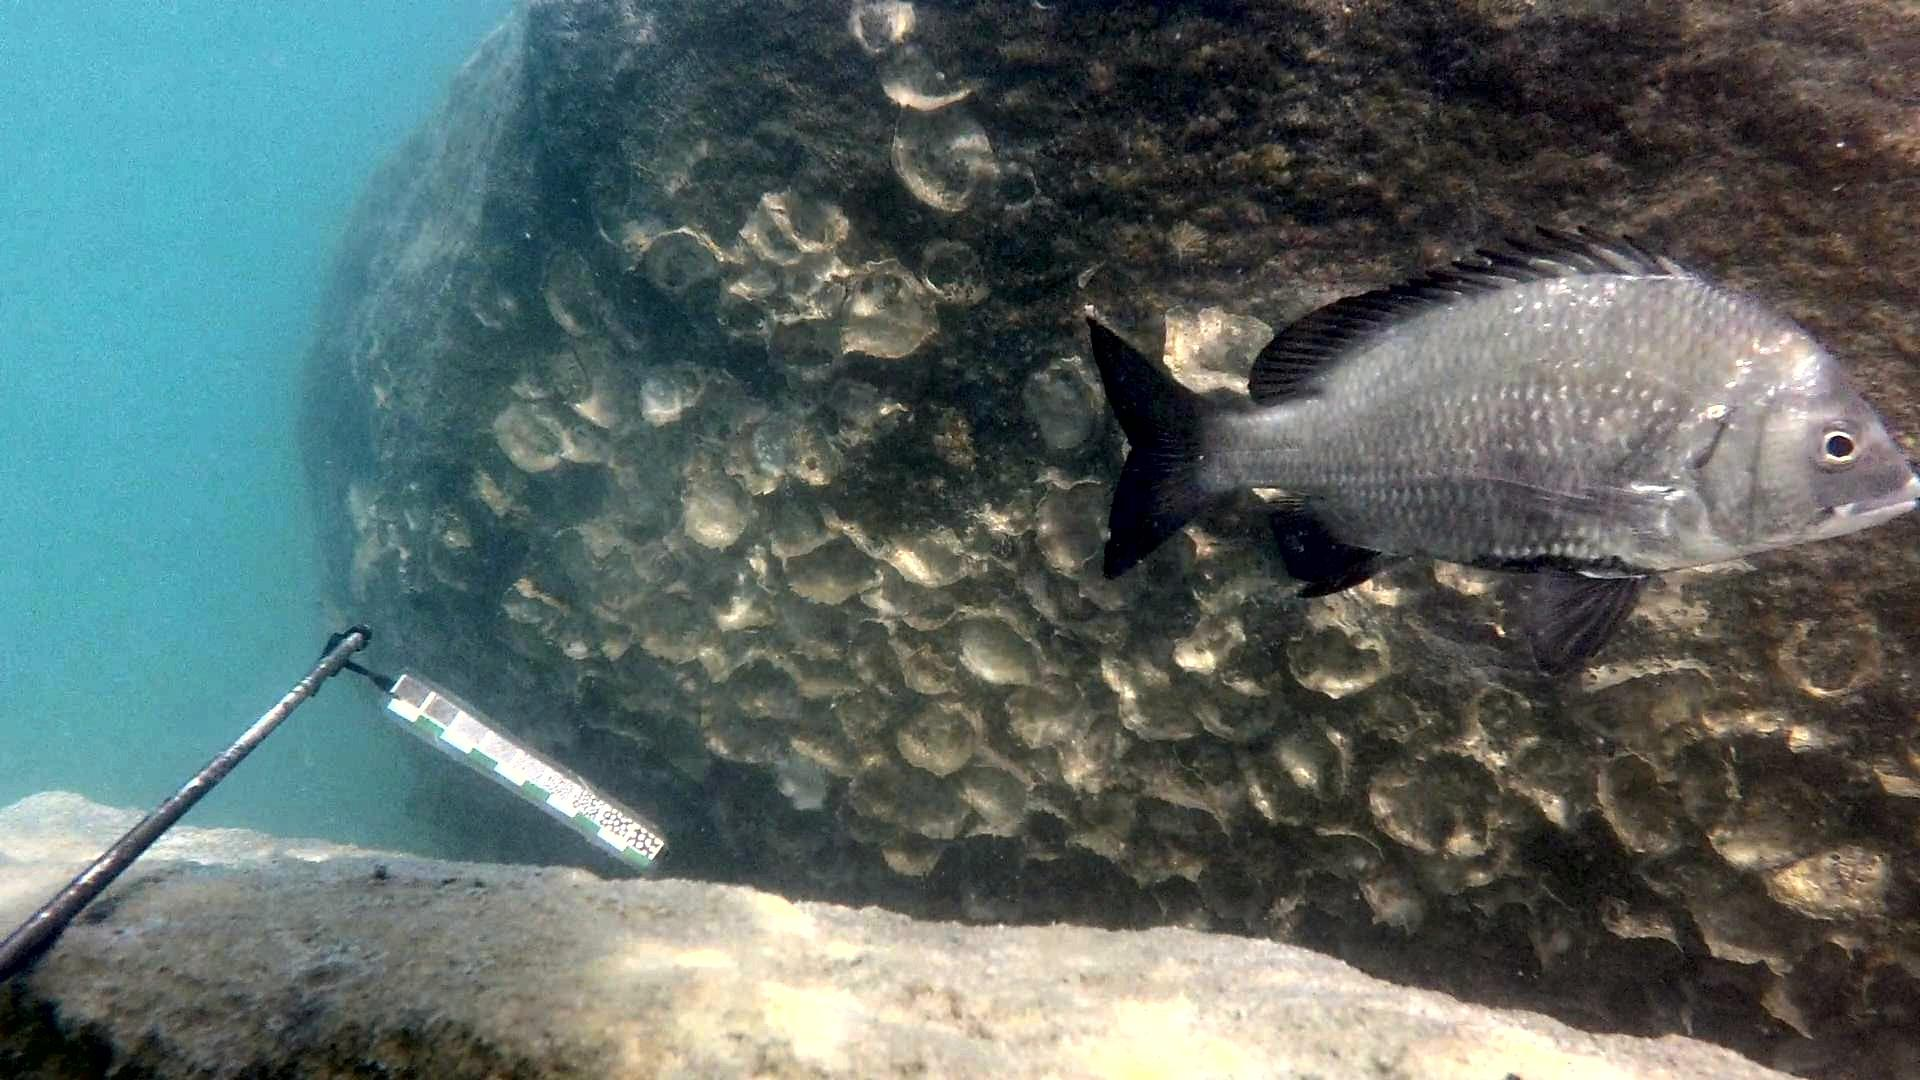acanthopagrus palmaris: (1077, 221, 1920, 693)
